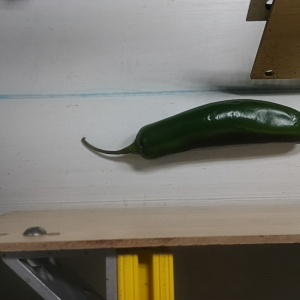Cut Point: (123, 120, 160, 164)
